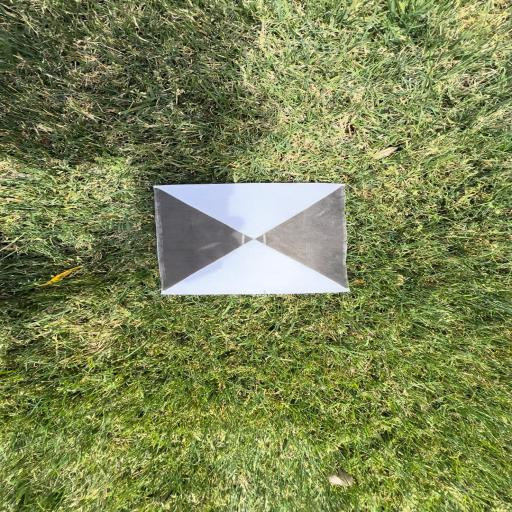target: (154, 184, 350, 294)
